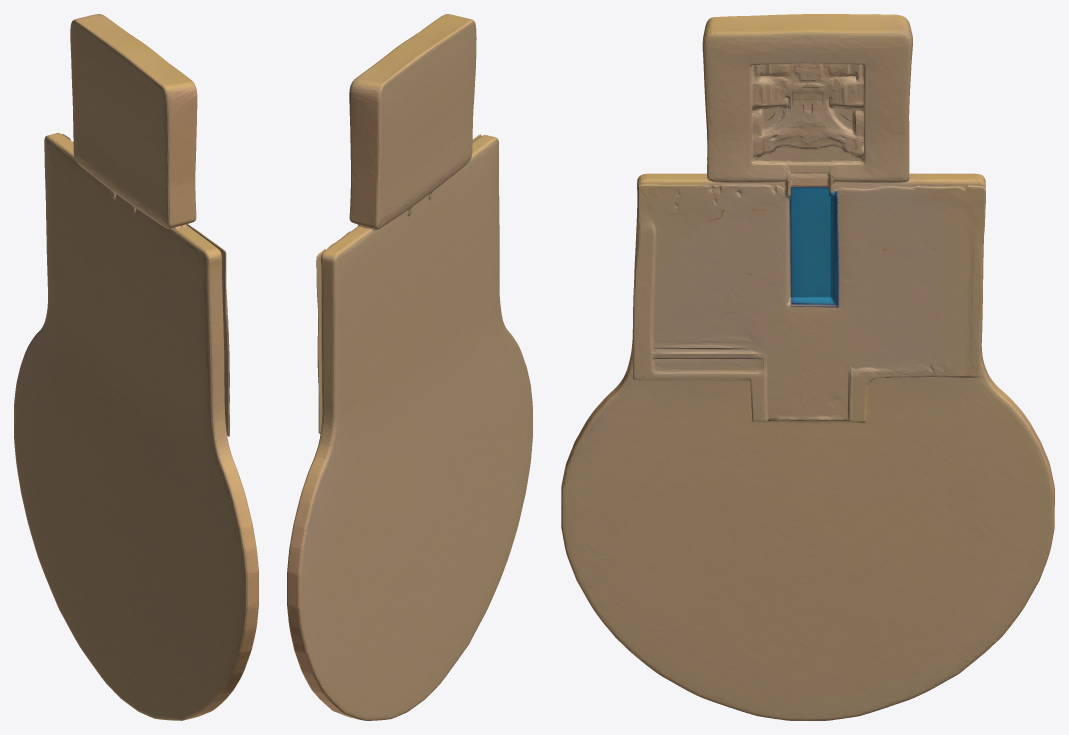
Rendered from skynoe00.glb.
3 views of the same model, side by side, from view 1: azimuth 30°, elevation 25°; view 2: azimuth 150°, elevation 25°; view 3: azimuth 270°, elevation 25° (orthographic). The views are drawn at different scales.
Parts seen in each view (by area): view 1: Mesh_0; view 2: Mesh_0; view 3: Mesh_0.
Part boxes in pixels (bbox=[...]): Mesh_0: bbox=[14, 14, 258, 720]; Mesh_0: bbox=[287, 14, 532, 720]; Mesh_0: bbox=[561, 14, 1054, 720].
Bounding box in the file's own units: 0.0517 × 1 × 0.6433.
1 material, 1 textured.
